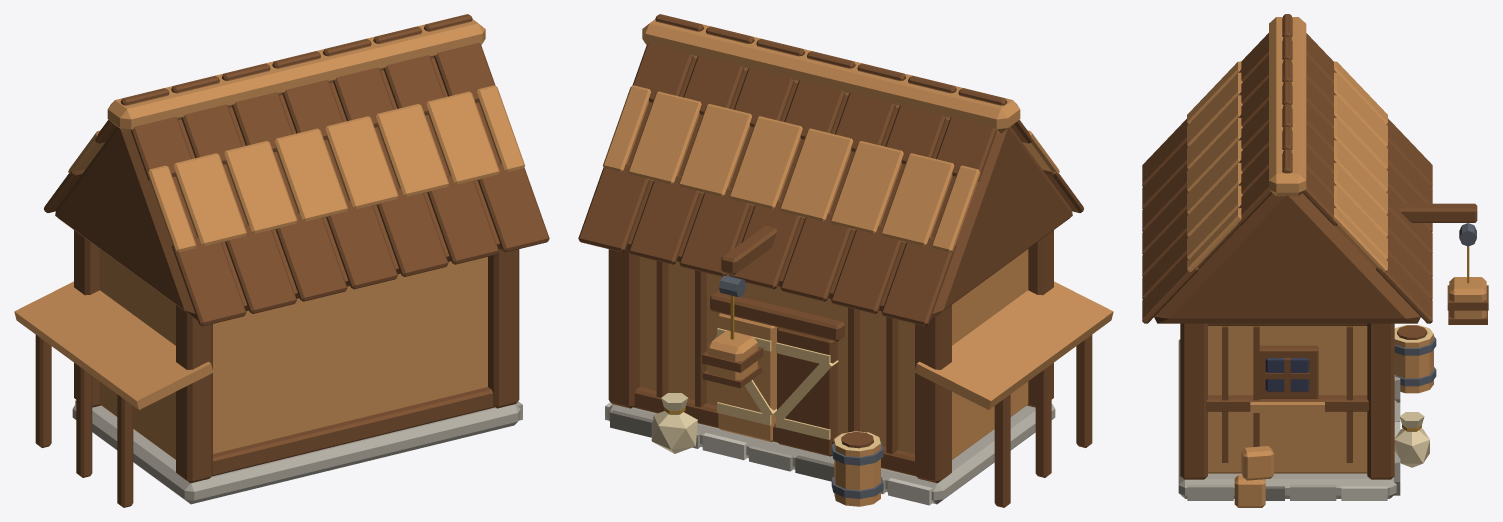
The model's file is warehouse_l2.fbx.
3 renders of one model, left to right at view 1: azimuth 30°, elevation 25°; view 2: azimuth 150°, elevation 25°; view 3: azimuth 270°, elevation 25°, orthographic. The views are drawn at different scales.
Visible parts, largest first — view 1: warehouse_l2; view 2: warehouse_l2, Hoist; view 3: warehouse_l2, Hoist.
Boxes of the visible parts, <box> form: warehouse_l2: <box>14,14,549,507</box>; warehouse_l2: <box>578,14,1113,507</box>; Hoist: <box>702,295,763,388</box>; warehouse_l2: <box>1142,14,1477,507</box>; Hoist: <box>1447,246,1488,324</box>.
Size of the model in its own units: 0.8317 by 0.7174 by 0.6675.
